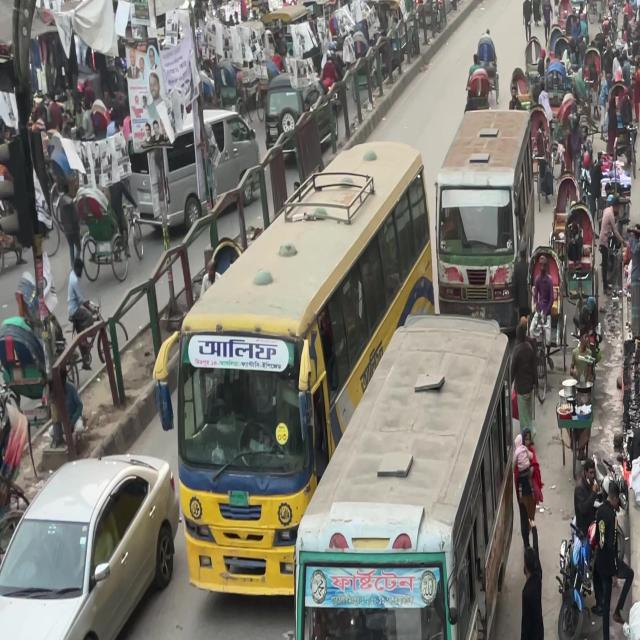bus: (166, 113, 424, 620), (281, 321, 505, 640), (436, 90, 539, 314)
car: (0, 436, 175, 640)
